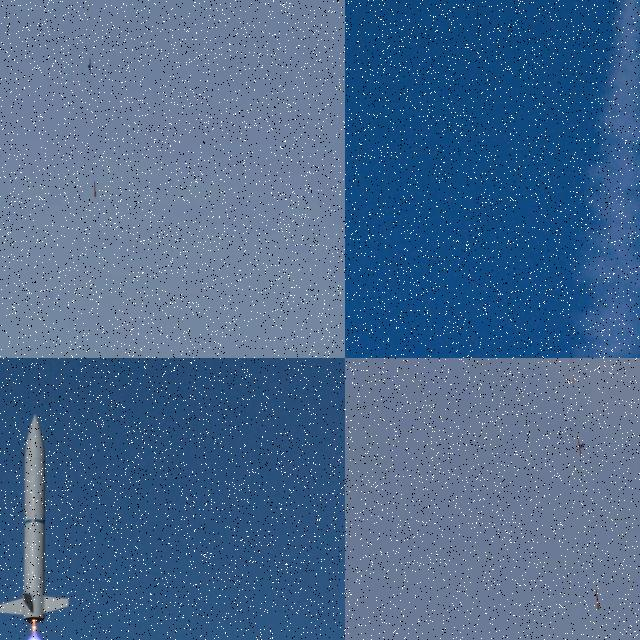Rocket: (0, 412, 71, 624), (595, 589, 600, 610), (94, 181, 96, 198)
